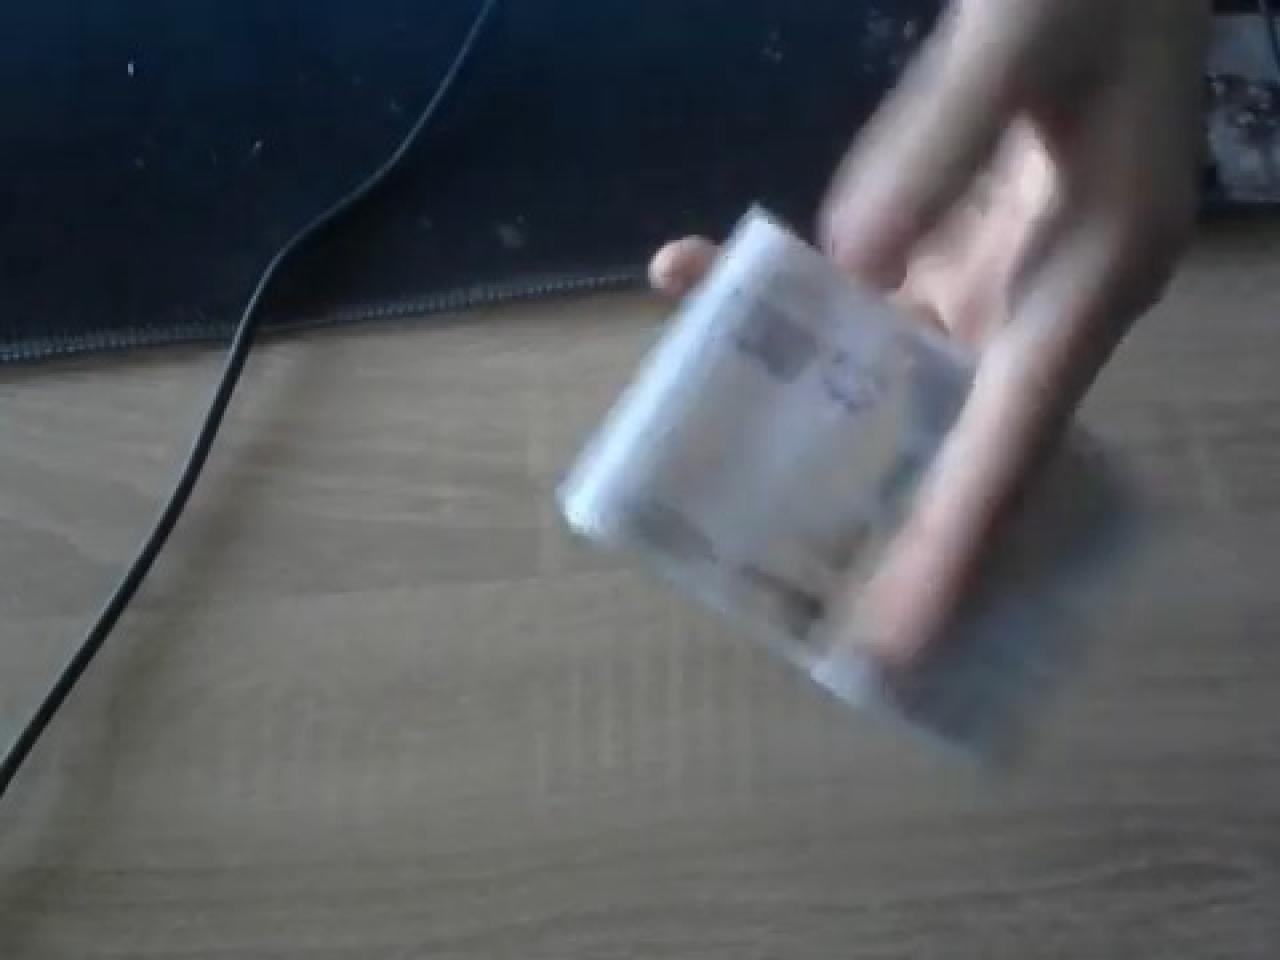20leva: (554, 206, 984, 704)
